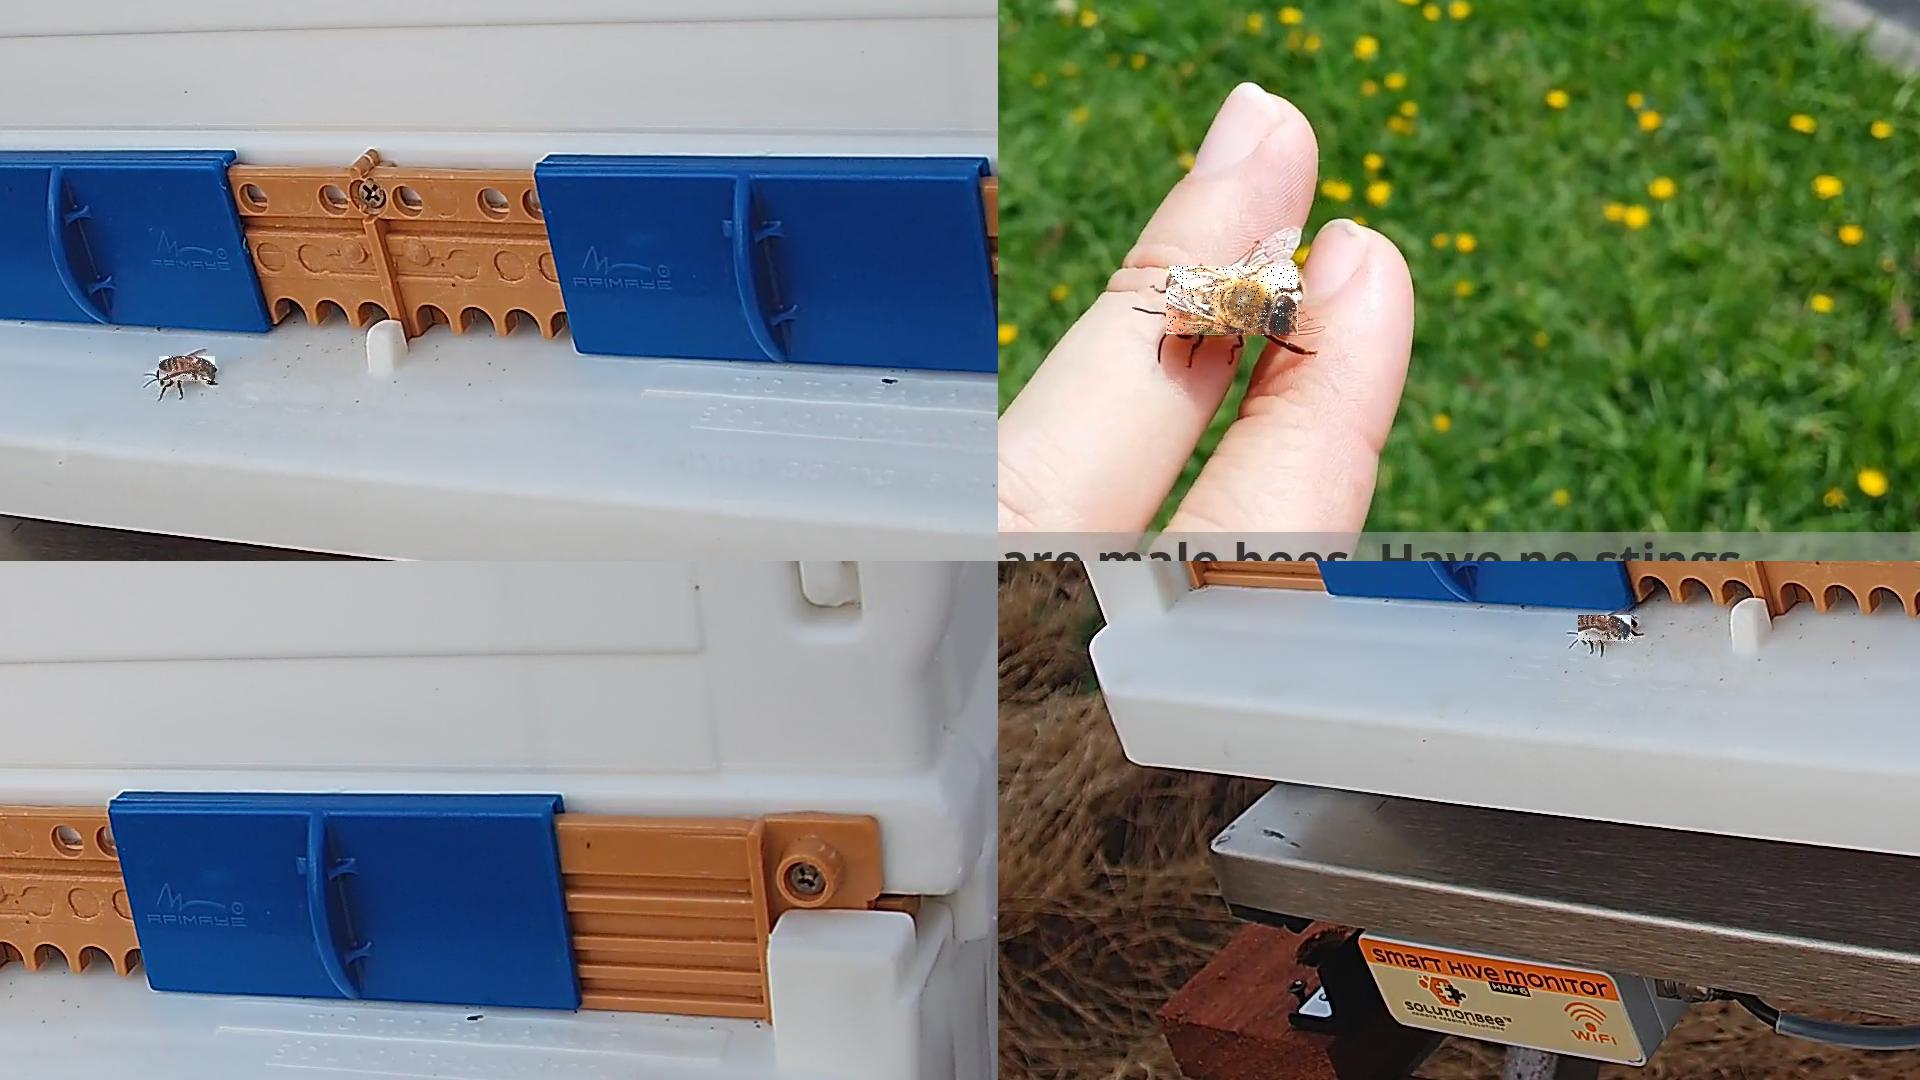bee: (1579, 616, 1636, 645), (159, 357, 216, 385)
drone: (1167, 266, 1302, 336)
